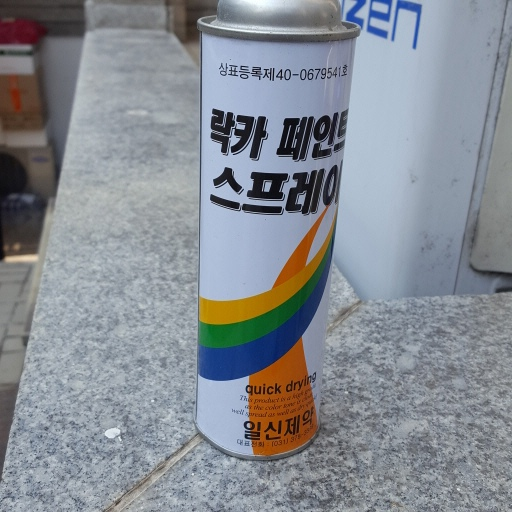Metal_0: (191, 1, 361, 462)
